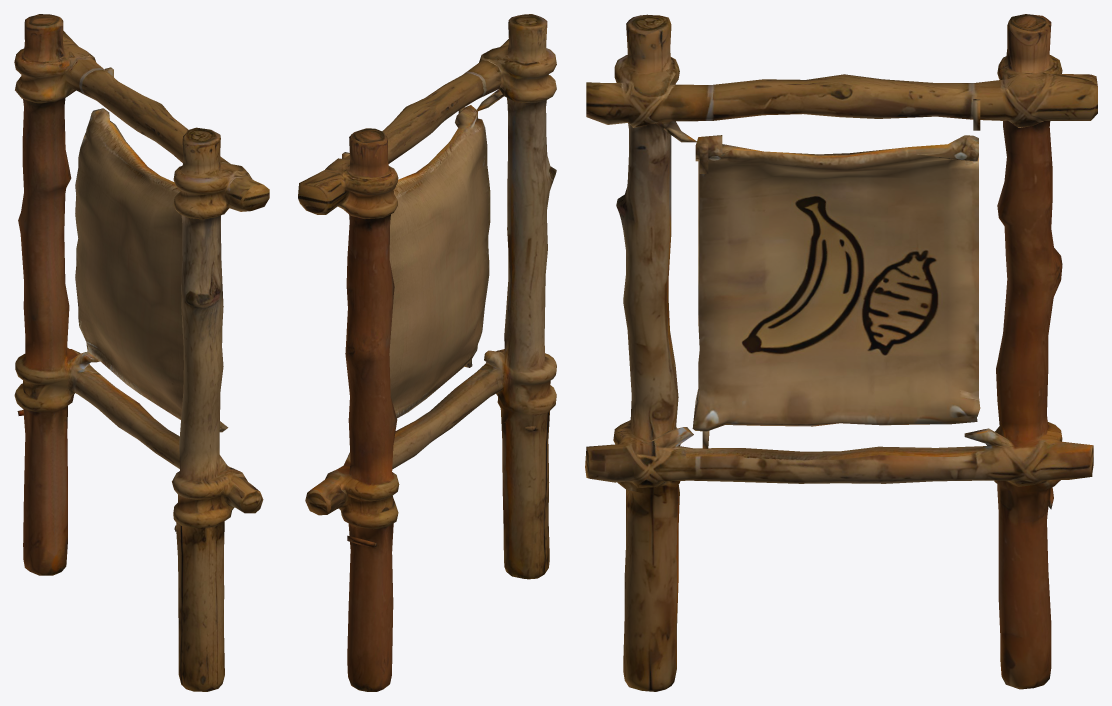
Rendered from field_paizi.fbx.
The picture shows the model from 3 angles, left to right: view 1: azimuth 30°, elevation 25°; view 2: azimuth 150°, elevation 25°; view 3: azimuth 270°, elevation 25°; orthographic projection. The views are drawn at different scales.
Visible parts, largest first — view 1: tripo_node_f4950690; view 2: tripo_node_f4950690; view 3: tripo_node_f4950690.
Part boxes in pixels (box(x1,y1,x2,y2)): tripo_node_f4950690: box(14, 14, 269, 691); tripo_node_f4950690: box(298, 14, 556, 691); tripo_node_f4950690: box(585, 14, 1097, 691).
Bounding box in the file's own units: 27.04 × 197 × 138.
1 material, 1 textured.
